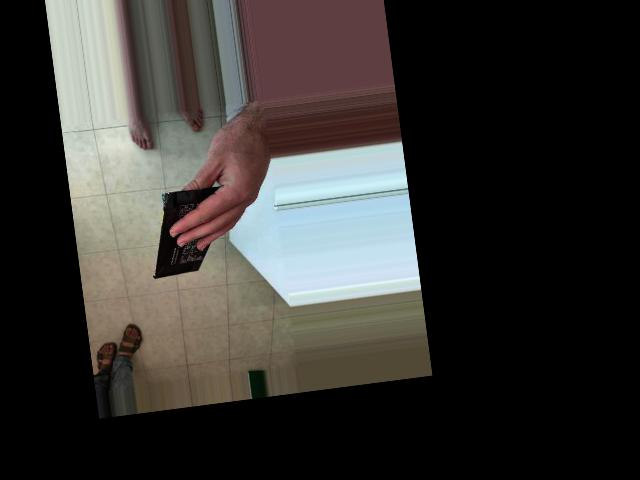chocolate: (141, 181, 245, 285)
